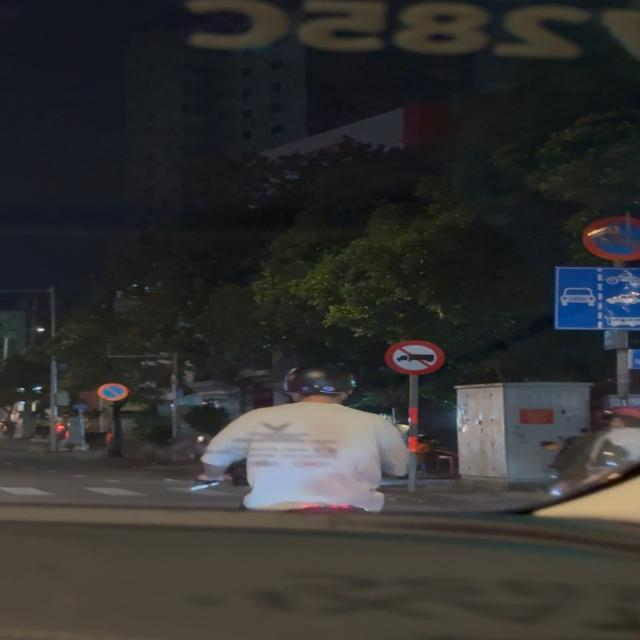Bien bao cam do xe: (93, 382, 131, 402)
Bien bao cam xe so-mi ro-mooc: (382, 338, 452, 377)
